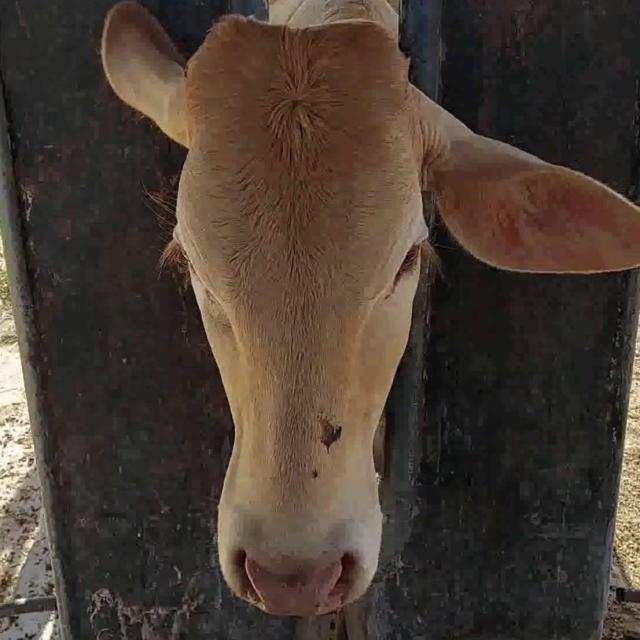cowFace: (172, 27, 429, 615)
